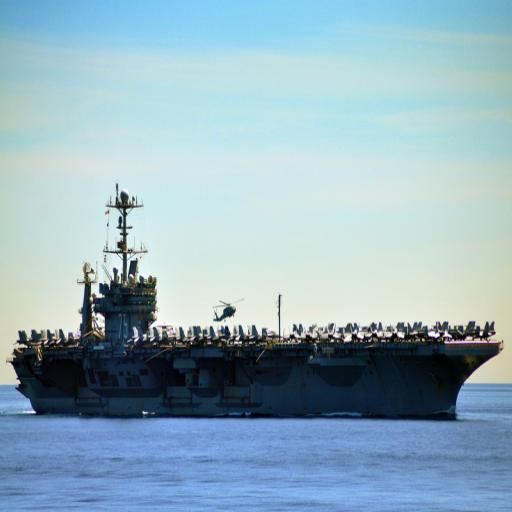Portanaves: (6, 180, 506, 422)
